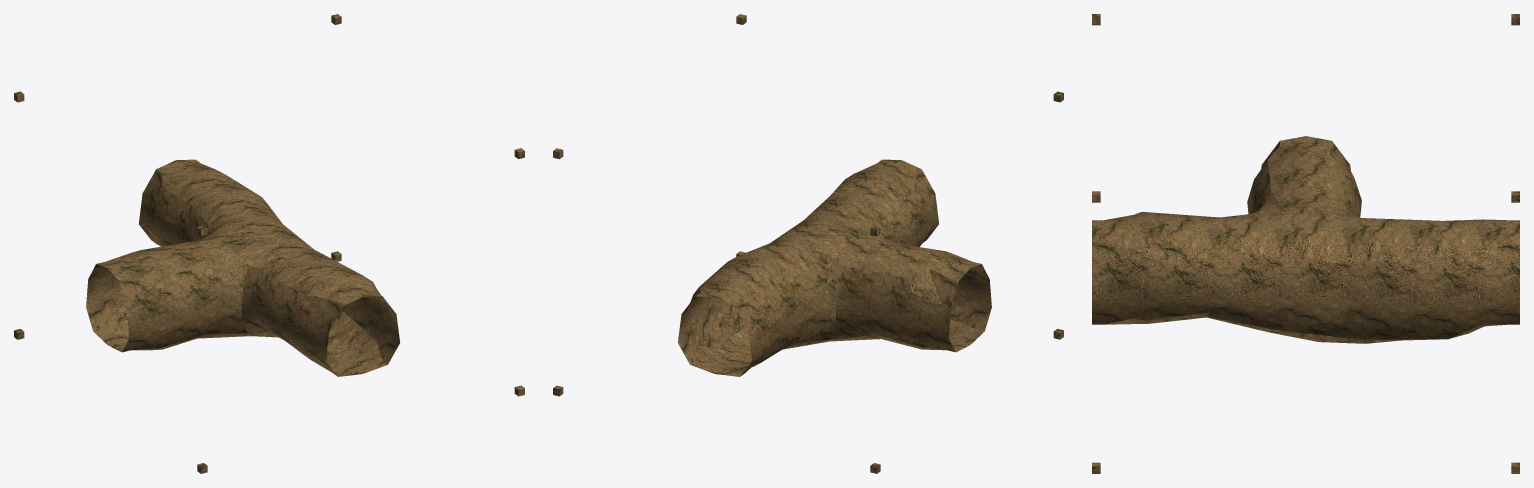
Rendered from lba_3b.glb.
The picture shows the model from 3 angles, left to right: view 1: azimuth 30°, elevation 25°; view 2: azimuth 150°, elevation 25°; view 3: azimuth 270°, elevation 25°; orthographic projection. The views are drawn at different scales.
Parts seen in each view (by area): view 1: lba_3b-col; view 2: lba_3b-col; view 3: lba_3b-col.
Boxes of the visible parts, box(x1,y1,x2,y2) form: lba_3b-col: box(14, 14, 524, 473); lba_3b-col: box(553, 14, 1063, 473); lba_3b-col: box(1092, 14, 1519, 473).
Bounding box in the file's own units: 15 × 10.8 × 15.
Materials: 1 (1 with a texture image).
